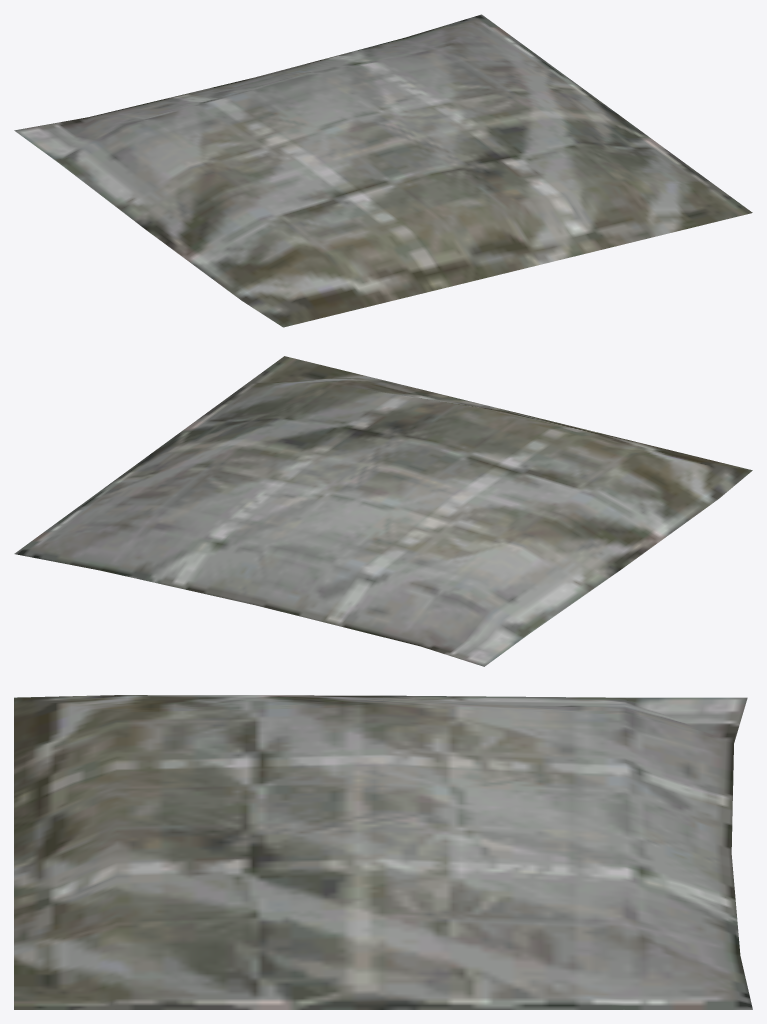
The model's file is 00_03_outside_tarp_A.dae.
3 renders of one model, top to bottom at view 1: azimuth 30°, elevation 25°; view 2: azimuth 150°, elevation 25°; view 3: azimuth 270°, elevation 25°, orthographic. The views are drawn at different scales.
Visible parts, largest first — view 1: tarp_A; view 2: tarp_A; view 3: tarp_A.
Part boxes in pixels (bbox=[...]): tarp_A: bbox=[14, 14, 752, 327]; tarp_A: bbox=[14, 356, 752, 666]; tarp_A: bbox=[14, 695, 752, 1009].
Bounding box in the file's own units: 4.03 × 0.2933 × 4.
